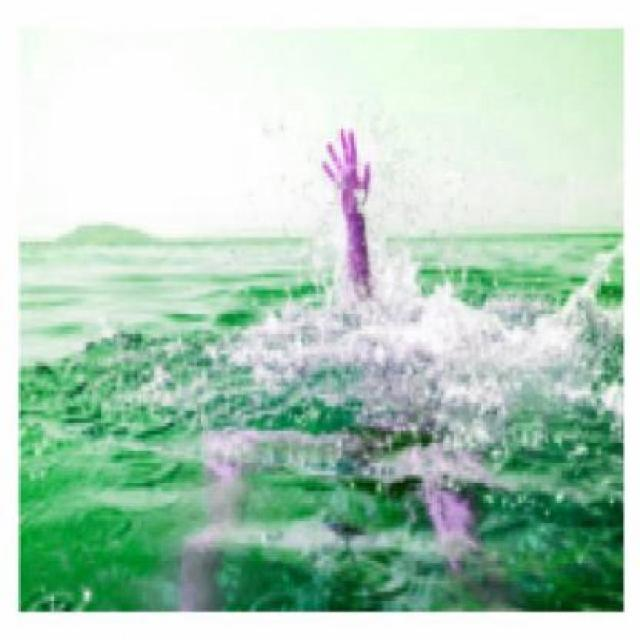drowning: (324, 136, 385, 310)
